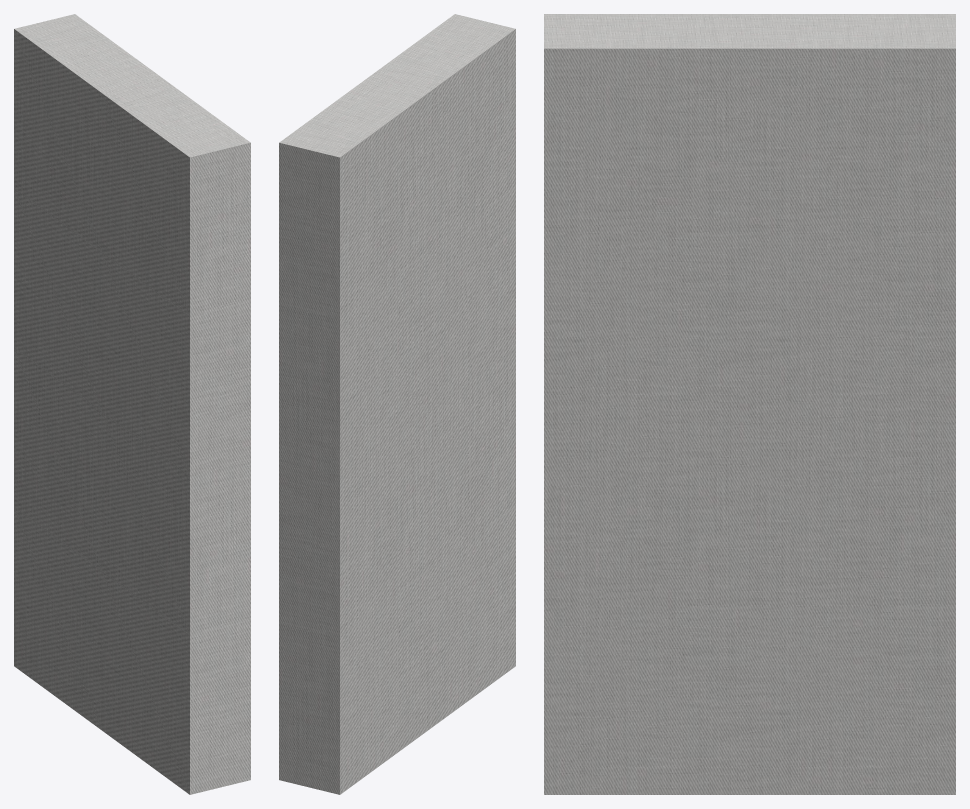
Rendered from wall1.obj.
3 views of the same model, side by side, from view 1: azimuth 30°, elevation 25°; view 2: azimuth 150°, elevation 25°; view 3: azimuth 270°, elevation 25° (orthographic). The views are drawn at different scales.
Parts seen in each view (by area): view 1: Cube; view 2: Cube; view 3: Cube.
Boxes of the visible parts, box(x1,y1,x2,y2) form: Cube: box(14, 14, 250, 794); Cube: box(279, 14, 515, 794); Cube: box(544, 14, 955, 794).
Bounding box in the file's own units: 0.2 × 2 × 1.
